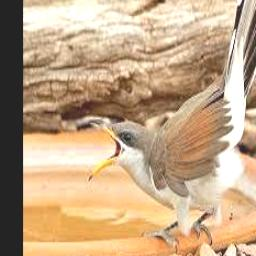Cuckoo: (88, 0, 256, 246)
